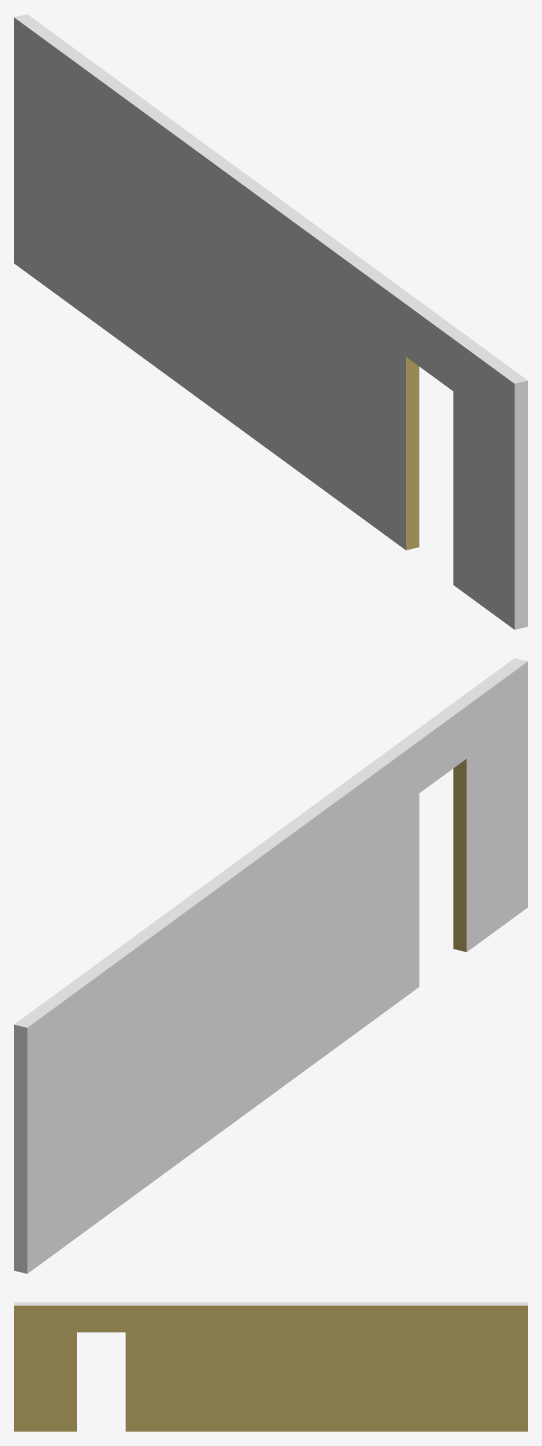
File: Wall 1.FBX
The picture shows the model from 3 angles, top to bottom: view 1: azimuth 30°, elevation 25°; view 2: azimuth 150°, elevation 25°; view 3: azimuth 270°, elevation 25°; orthographic projection. The views are drawn at different scales.
Visible parts, largest first — view 1: Wall 1; view 2: Wall 1; view 3: Wall 1.
Part boxes in pixels (x1,y1,x2,y2): Wall 1: [14, 14, 527, 629]; Wall 1: [14, 658, 527, 1273]; Wall 1: [14, 1302, 527, 1431].
Bounding box in the file's own units: 15.43 × 272 × 1005.
2 materials, 2 textured.
